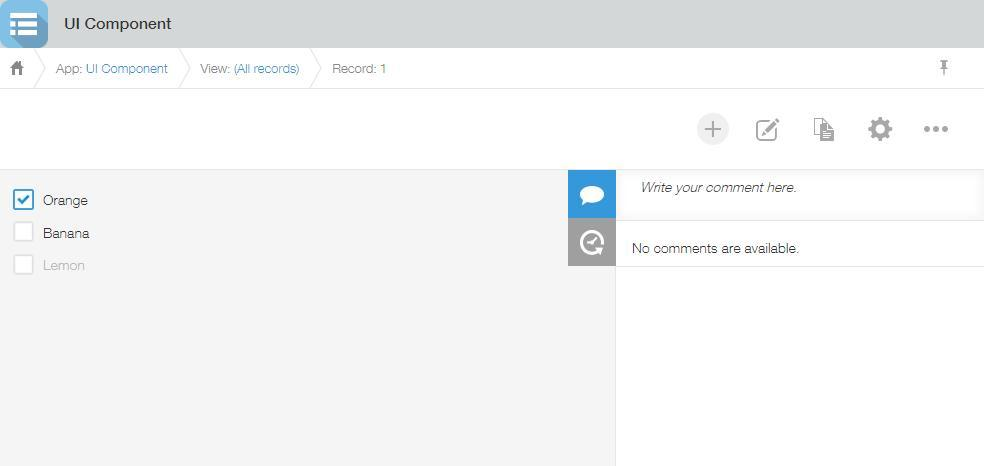checkbox: (11, 187, 37, 216), (13, 253, 35, 277), (14, 223, 33, 243)
icon: (579, 227, 610, 259), (810, 114, 839, 147), (577, 183, 608, 213), (754, 118, 784, 146), (868, 115, 894, 147), (916, 118, 951, 139), (704, 119, 723, 143), (11, 59, 28, 79), (940, 60, 951, 77)
label: (62, 17, 175, 36), (40, 225, 95, 244), (39, 194, 95, 212), (41, 257, 91, 276)
